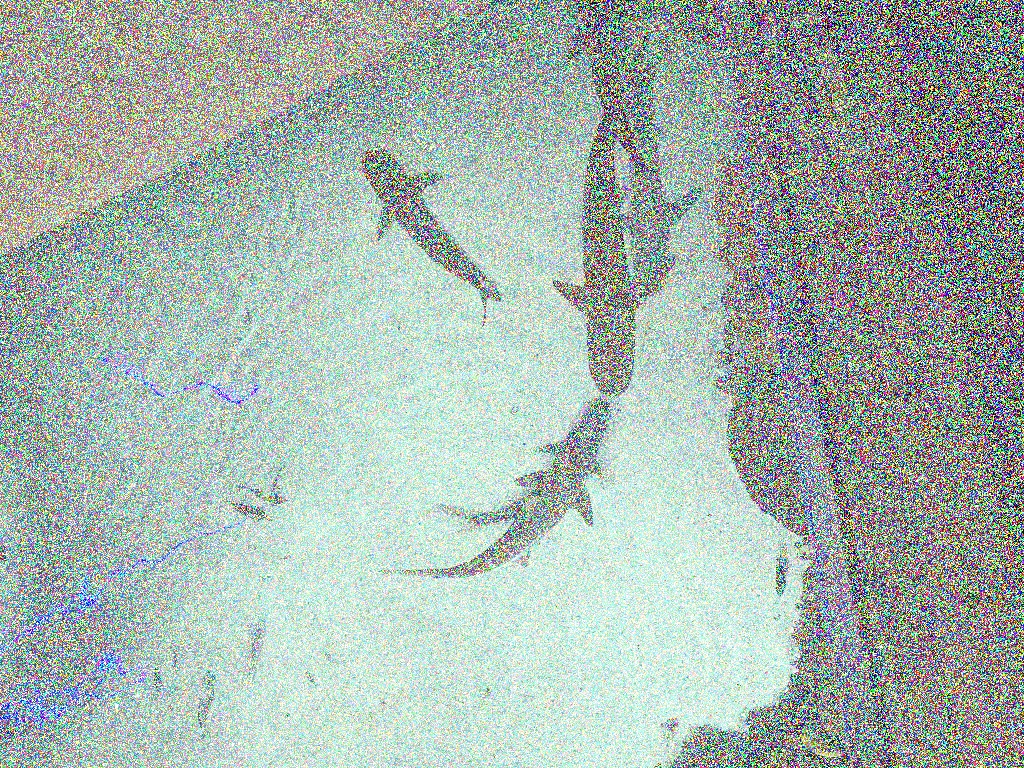fish: (796, 723, 846, 767), (192, 660, 218, 738), (224, 496, 272, 524), (770, 552, 790, 600)
shark: (552, 0, 676, 396), (374, 396, 608, 582), (359, 144, 503, 332), (561, 0, 662, 199)
